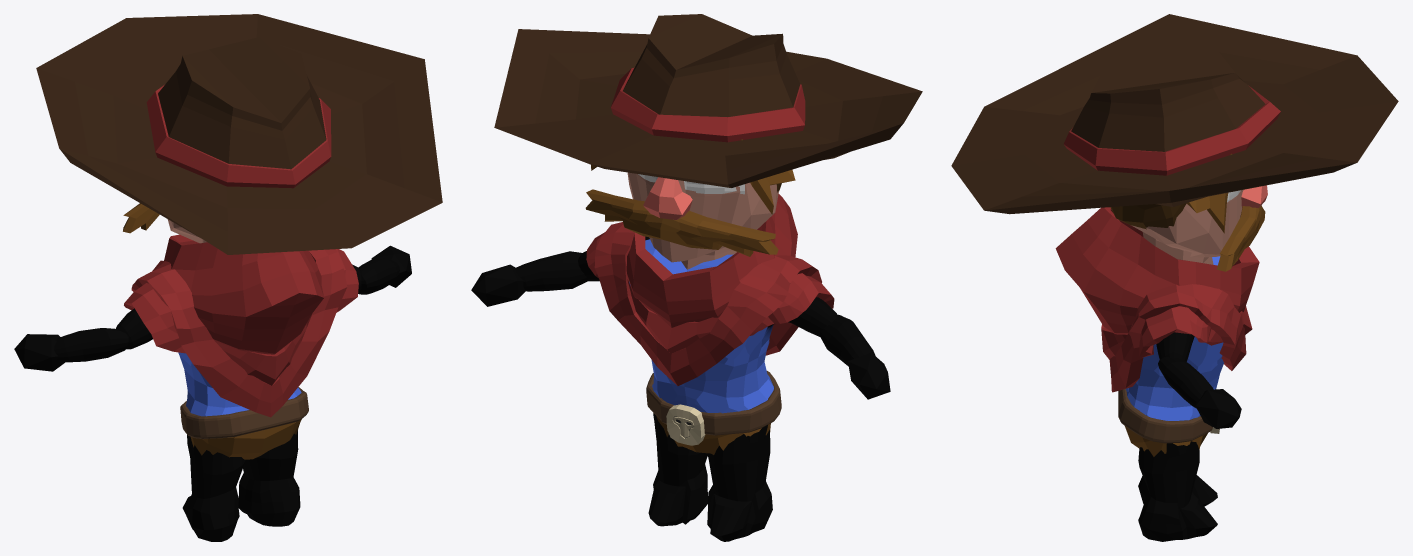
Rendered from bert_benny_v2.fbx.
The picture shows the model from 3 angles, left to right: view 1: azimuth 30°, elevation 25°; view 2: azimuth 150°, elevation 25°; view 3: azimuth 270°, elevation 25°; orthographic projection. The views are drawn at different scales.
Visible parts, largest first — view 1: Cylinder.001, Plane.005, Plane.006, Plane; view 2: Cylinder.001, Plane.005, Plane, Icosphere, Plane.006, Cube, Circle, Plane.002, Untitled-1; view 3: Cylinder.001, Plane.005, Icosphere, Plane.006, Plane, Plane.001, Plane.002, Cylinder.
Boxes of the visible parts, x1,y1,x2,y2 form: Cylinder.001: (36, 14, 442, 254); Plane.005: (14, 234, 411, 541); Plane.006: (180, 387, 308, 439); Plane: (123, 203, 159, 233); Cylinder.001: (494, 14, 922, 187); Plane.005: (471, 194, 890, 541); Plane: (585, 189, 778, 256); Icosphere: (627, 172, 778, 262); Plane.006: (646, 371, 781, 435); Cube: (643, 177, 692, 219); Circle: (666, 404, 705, 445); Plane.002: (591, 139, 795, 214); Untitled-1: (638, 174, 744, 194); Cylinder.001: (951, 14, 1398, 214); Plane.005: (1055, 207, 1259, 541); Icosphere: (1131, 190, 1243, 257); Plane.006: (1118, 389, 1212, 443); Plane: (1216, 205, 1265, 271); Plane.001: (1110, 203, 1186, 229); Plane.002: (1186, 153, 1232, 233); Cylinder: (1142, 232, 1213, 264).
Bounding box in the file's own units: 296 × 337 × 298.
